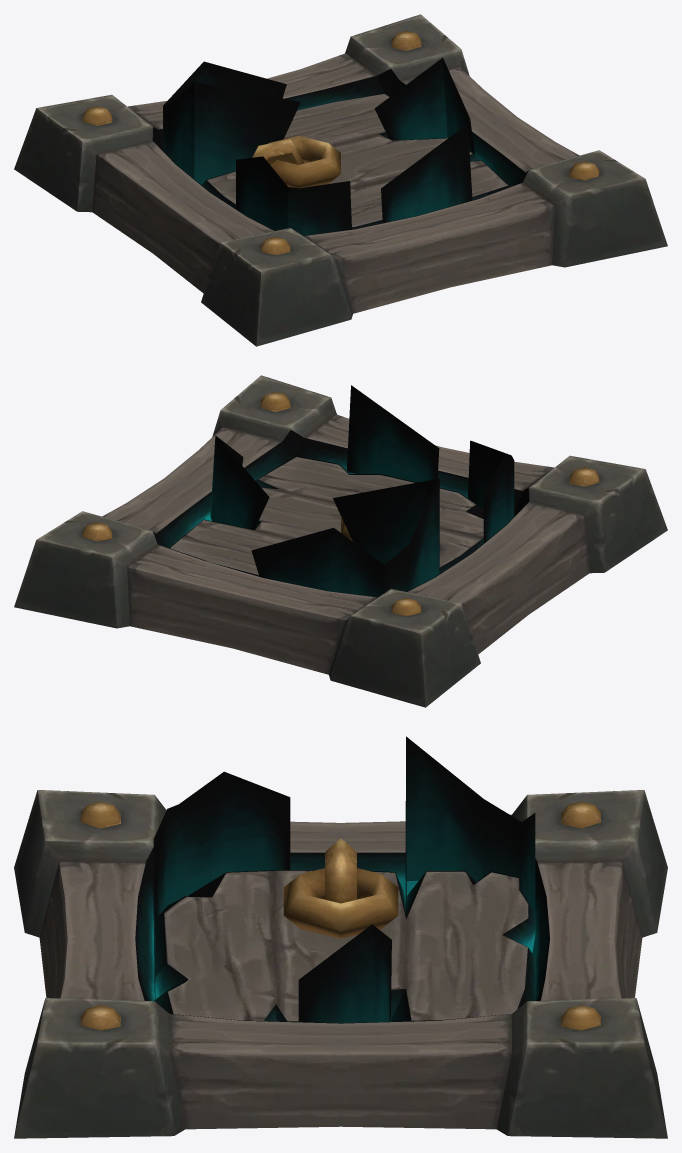
3 renders of one model, top to bottom at view 1: azimuth 30°, elevation 25°; view 2: azimuth 150°, elevation 25°; view 3: azimuth 270°, elevation 25°, orthographic. The views are drawn at different scales.
Bounding box in the file's own units: 2.19 × 0.7019 × 2.24.
3 materials, 3 textured.
